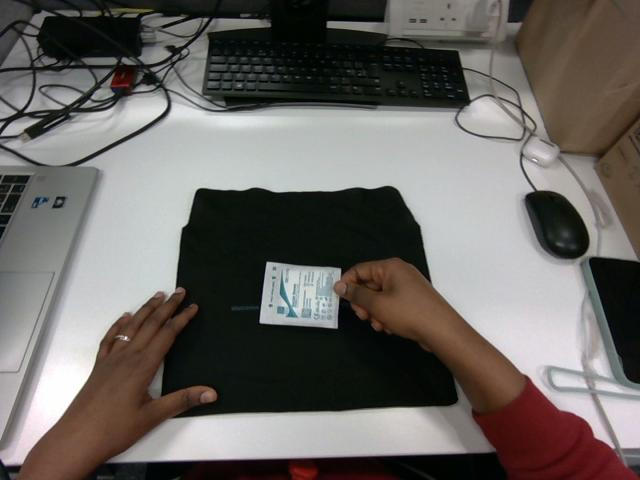gauze: (259, 262, 340, 327)
